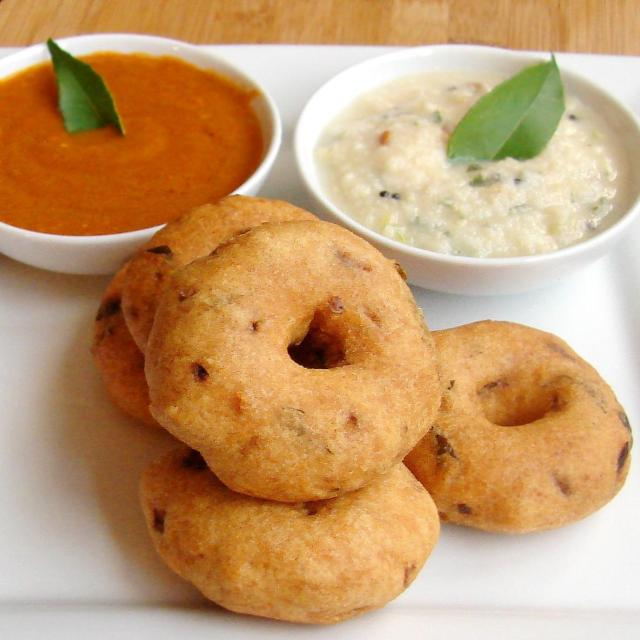MEDU VADA: (136, 217, 438, 505), (142, 455, 438, 624), (409, 319, 631, 535), (123, 192, 310, 342)
